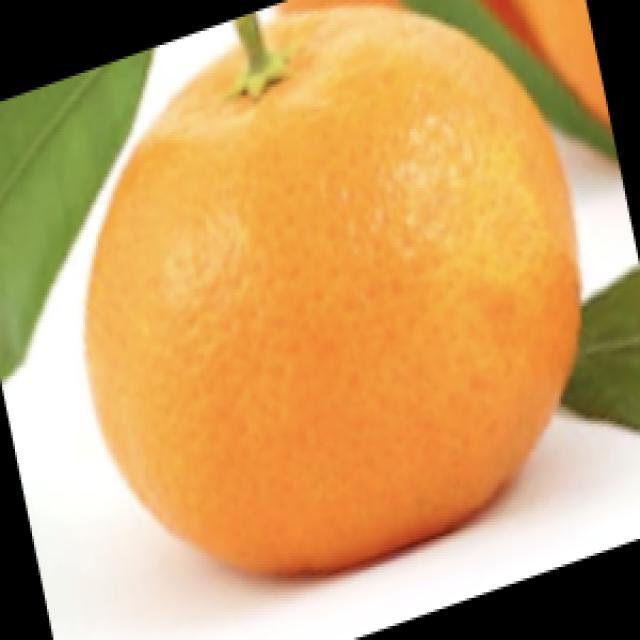matang: (86, 9, 578, 571)
